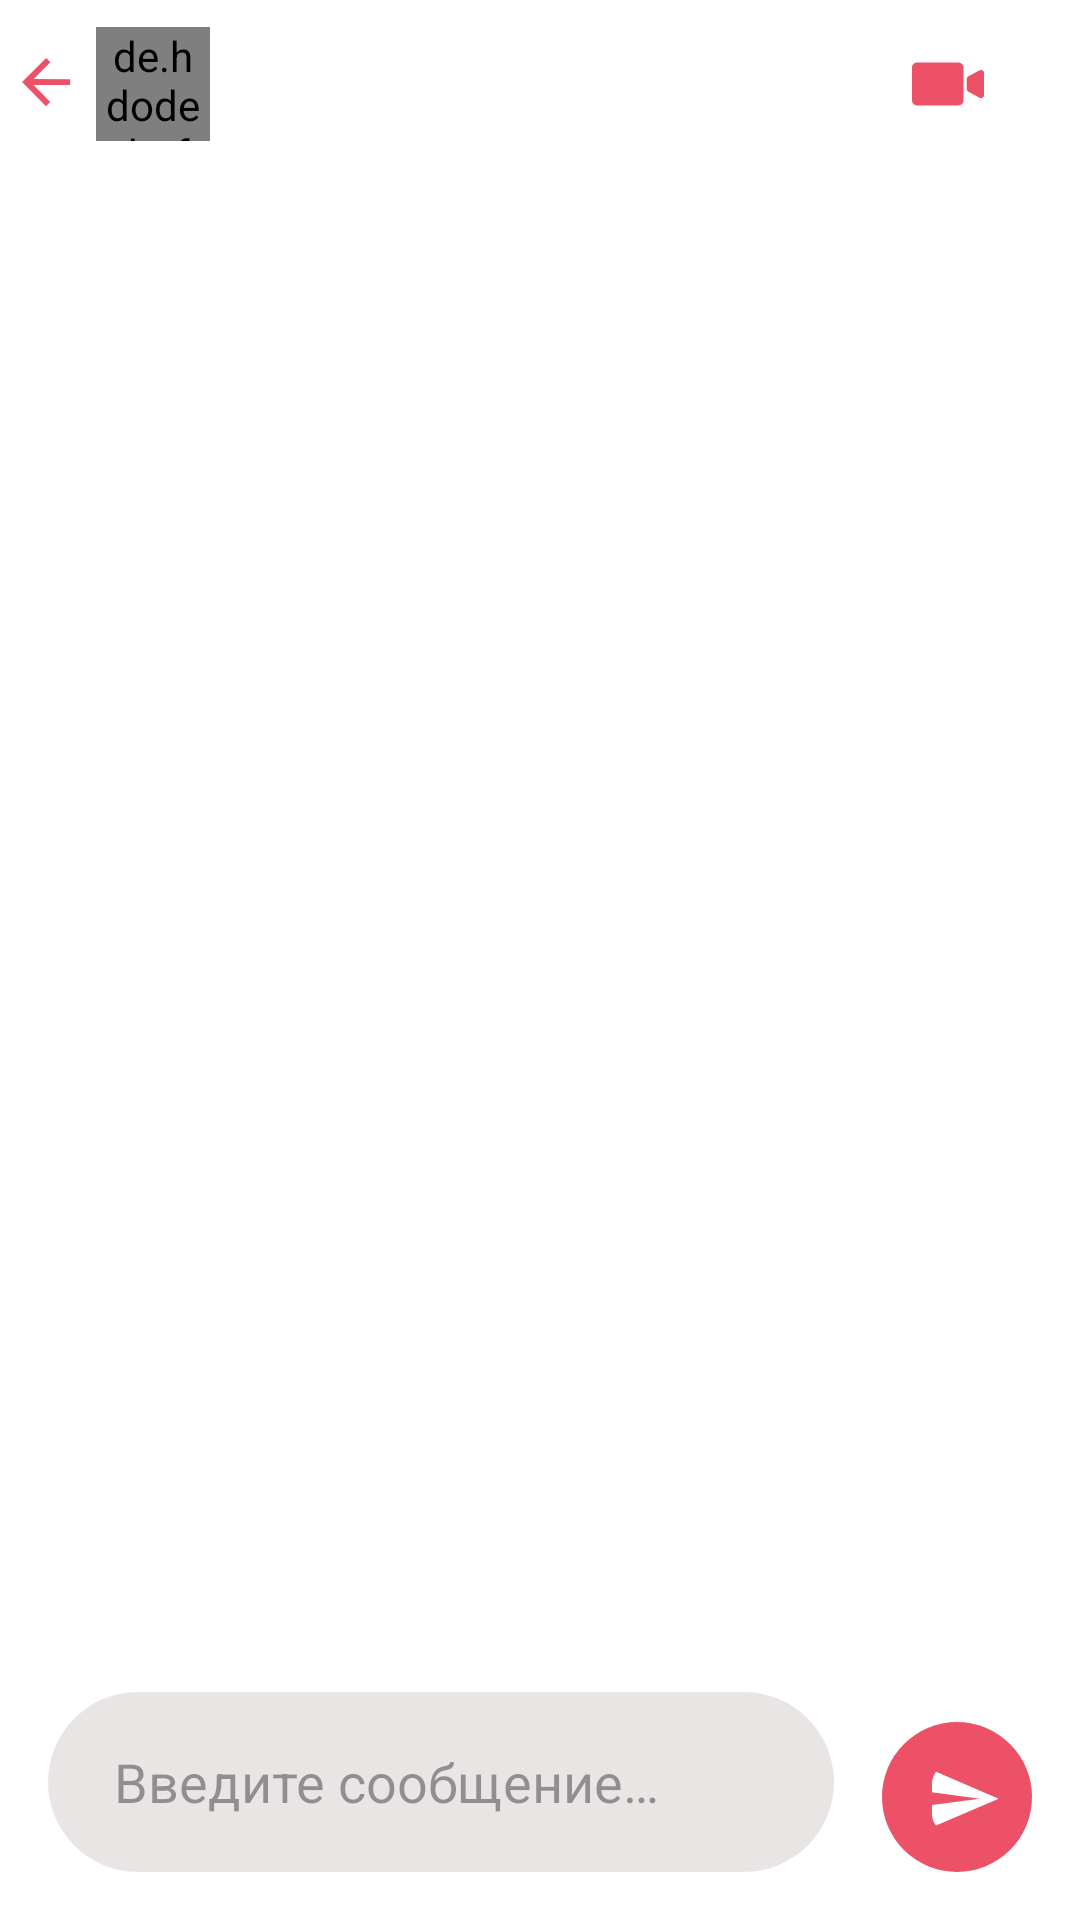

Locate icon controls on the screen. Image size 1080×1920, boxes as (x1, y1, x2, y2).
arrow back: (22, 58, 71, 106)
call video: (912, 62, 984, 106)
send: (882, 1722, 1032, 1872)
